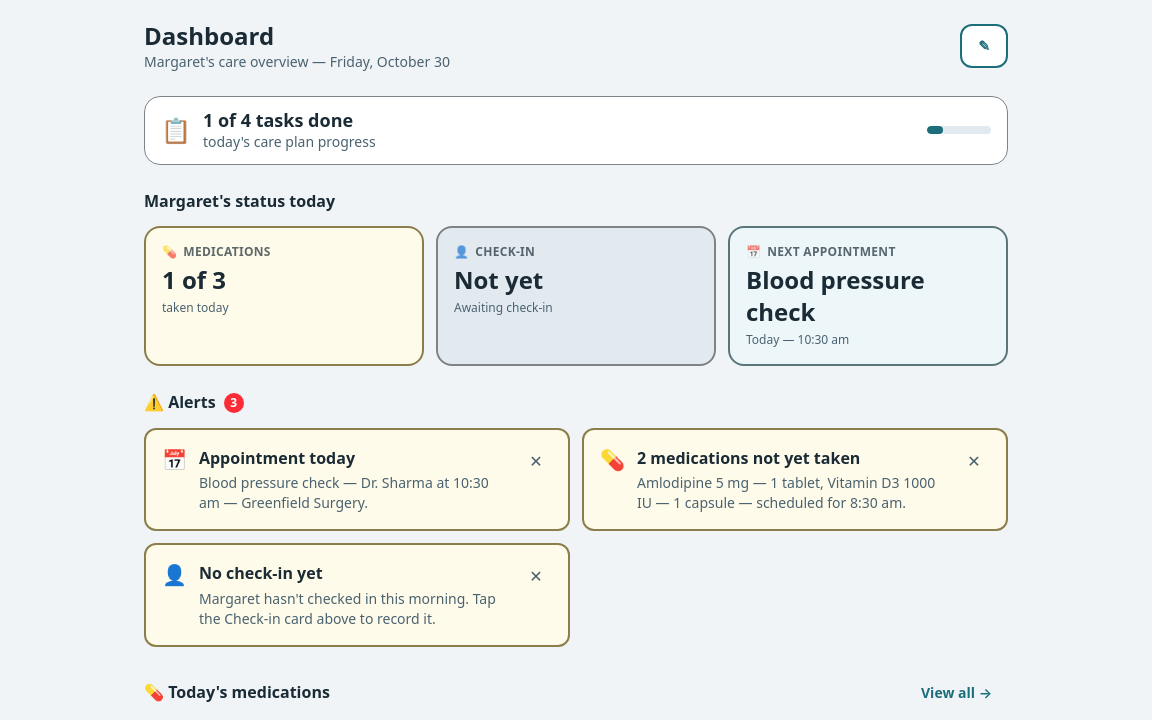
Test case: DashboardPage › customize: hide a widget, reorder with buttons and close with Done
The width and height of the screenshot is (1152, 720).
Click the button named "customize dashboard" at (984, 46), box 960,24 -> 1008,68
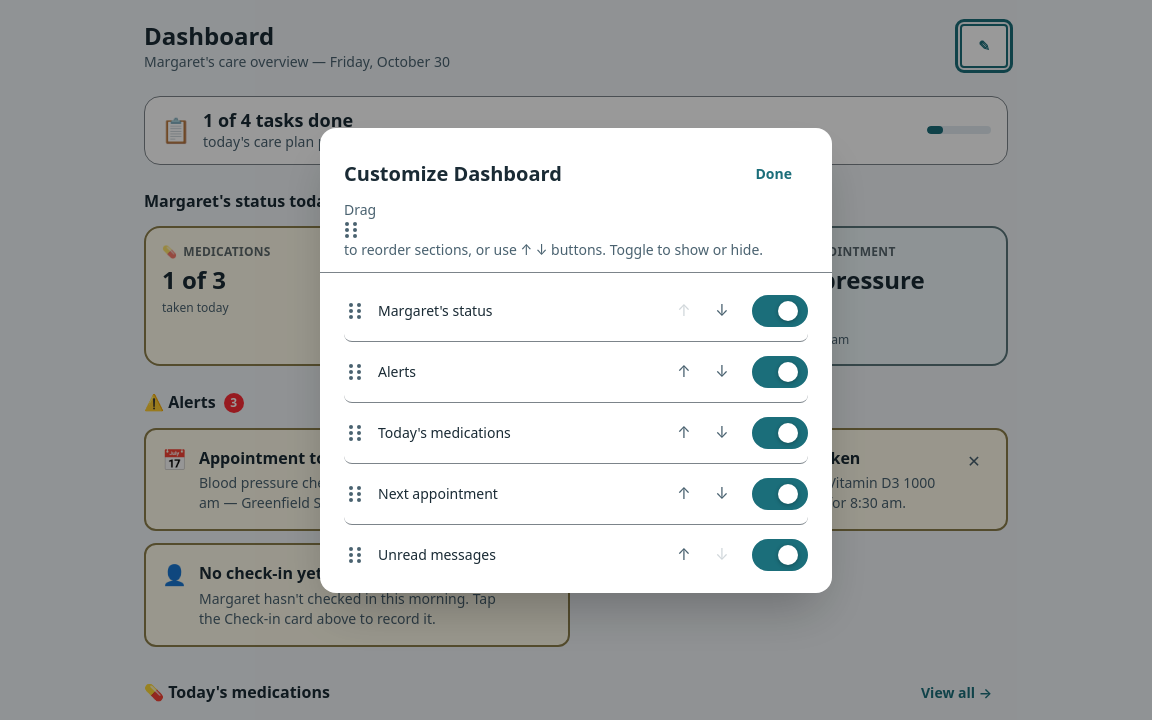
Click the switch named "Alerts" at (780, 372), box 752,356 -> 808,388
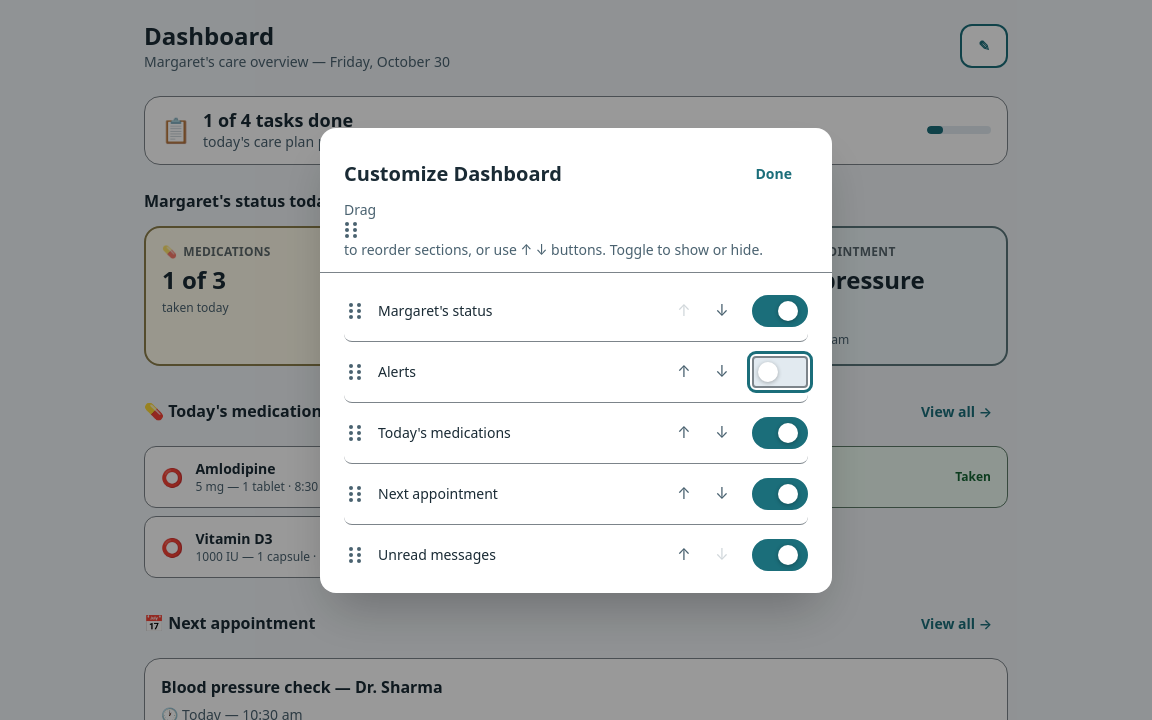
Expected: the switch named "Alerts" is not checked, 752,356 -> 808,388
Click the button named "move unread messages up" at (684, 554), box 666,536 -> 702,572
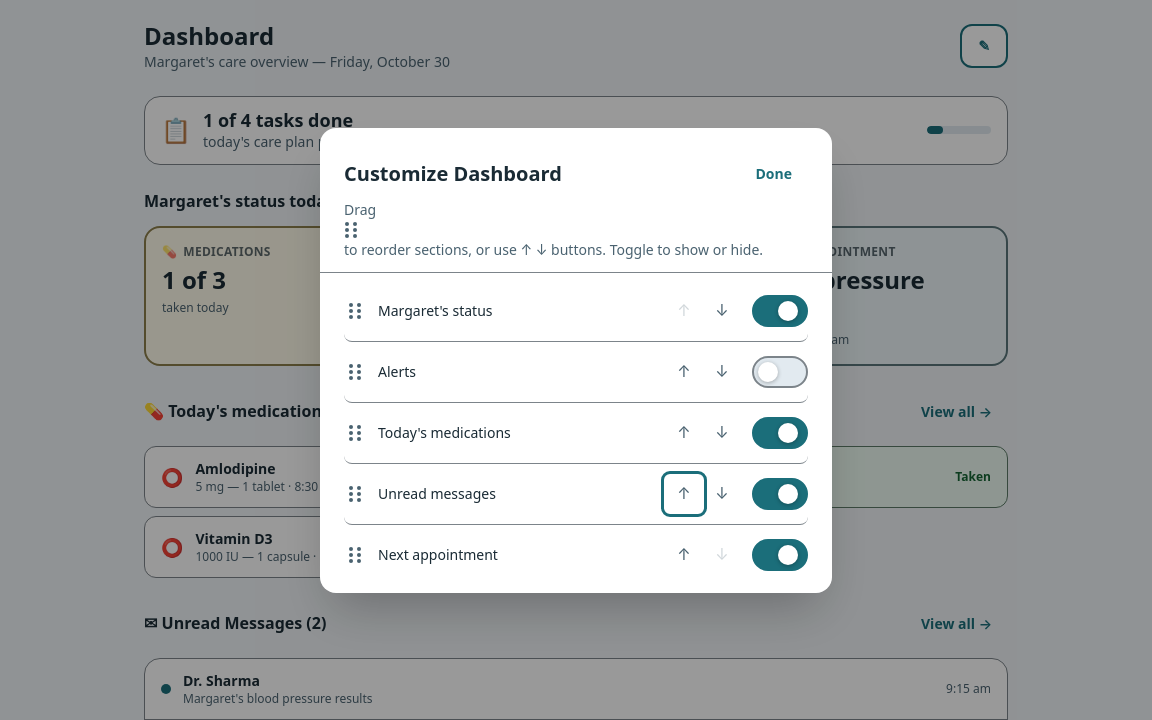
Expected: the button named "move margaret's status up" is disabled, 666,292 -> 702,328
Click the button named "move margaret's status down" at (722, 310), box 704,292 -> 740,328
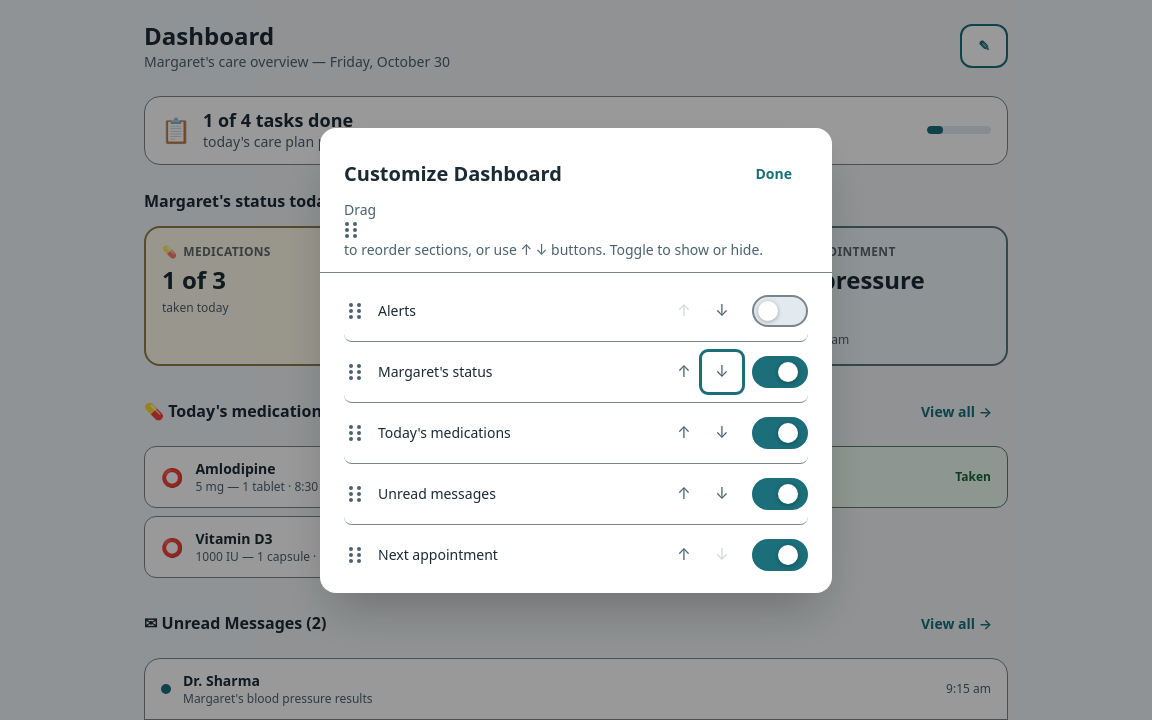
Click the button "Done" at (774, 174), box 740,152 -> 808,196
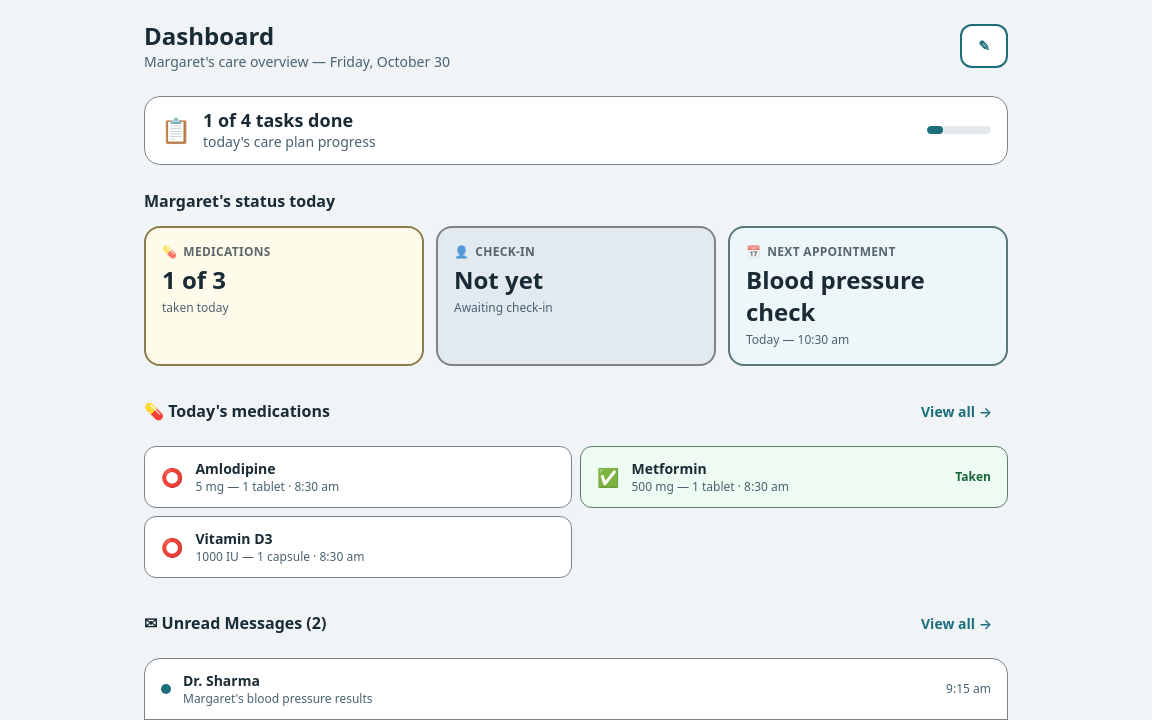
Expected: the dialog is gone
